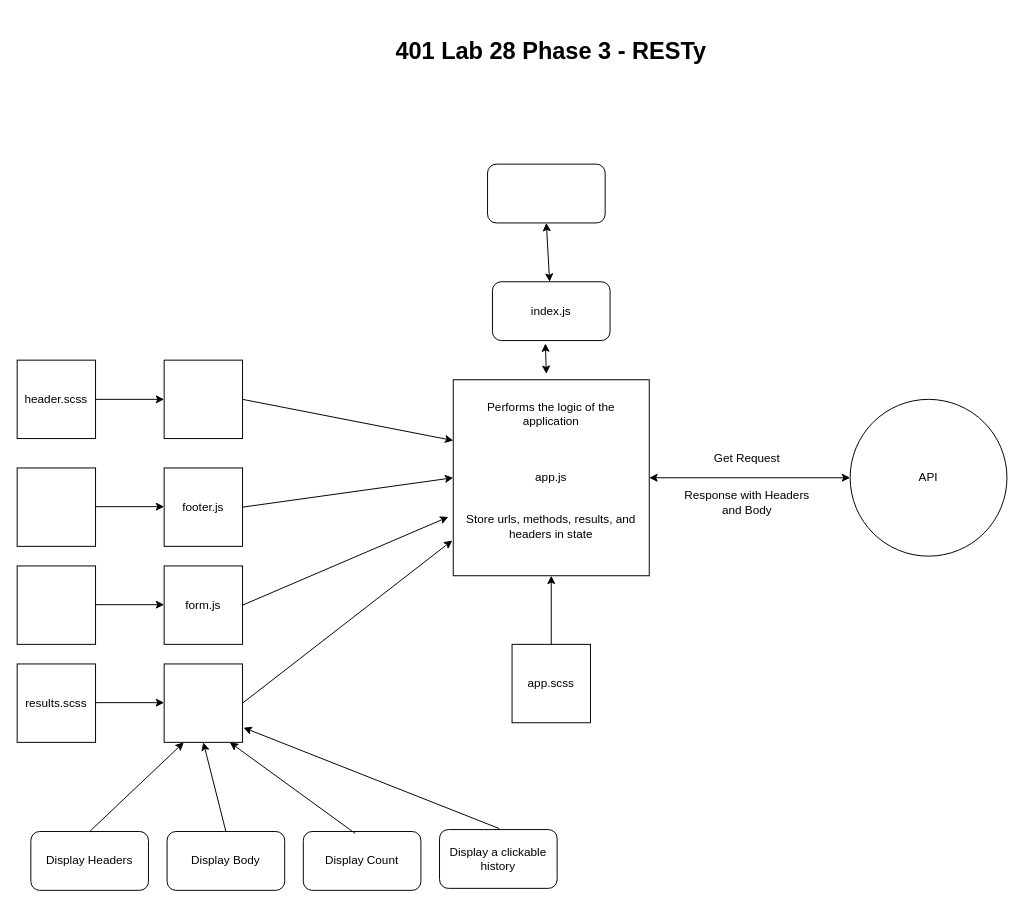
This 1024x907 diagram has some shape labels left out. The shapes that lost their labels are listed below. From the top down, each one's centre as x and y in pixels, then its label:
At [546,193]: "index.html".
At [203,399]: "header.js".
At [56,506]: "footer.scss".
At [56,604]: "form.scss".
At [203,702]: "results.js".
